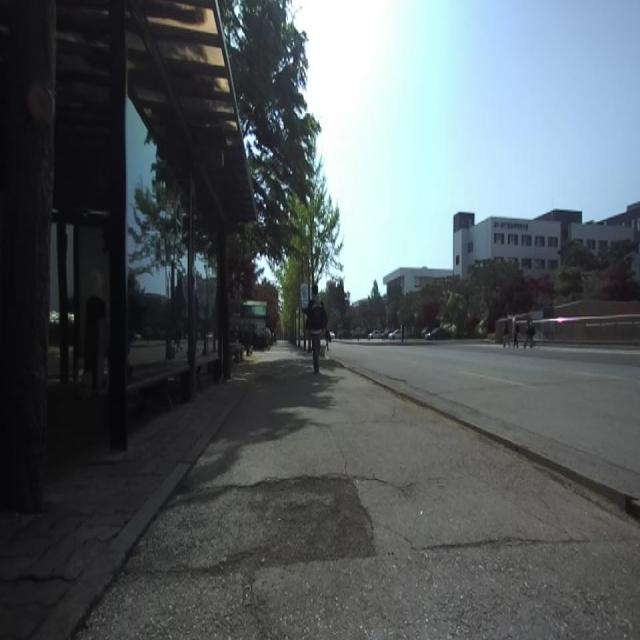sidewalk: (79, 346, 640, 639), (32, 385, 248, 639)
